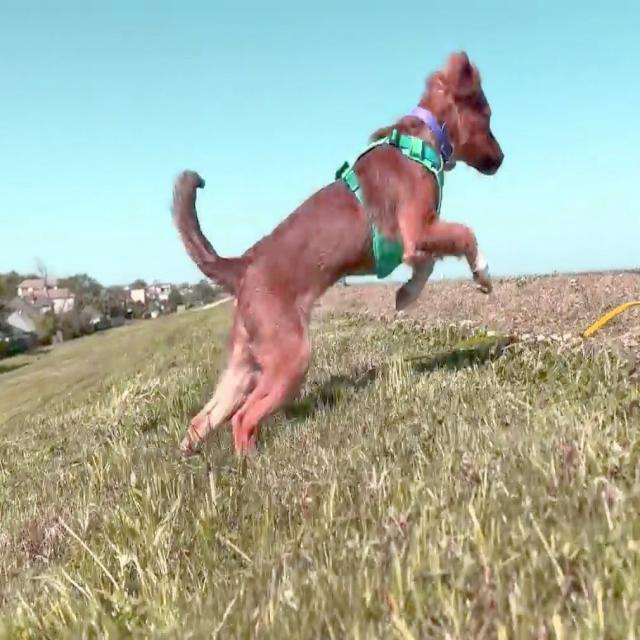Dog: (170, 50, 505, 453)
